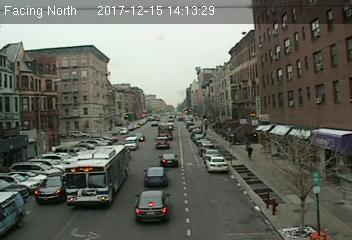bus: (64, 144, 127, 205)
car: (34, 171, 65, 207), (134, 190, 168, 222), (143, 166, 169, 186), (205, 155, 229, 174), (158, 153, 179, 167), (154, 137, 170, 148)
truck: (1, 191, 25, 236), (157, 123, 172, 138)
